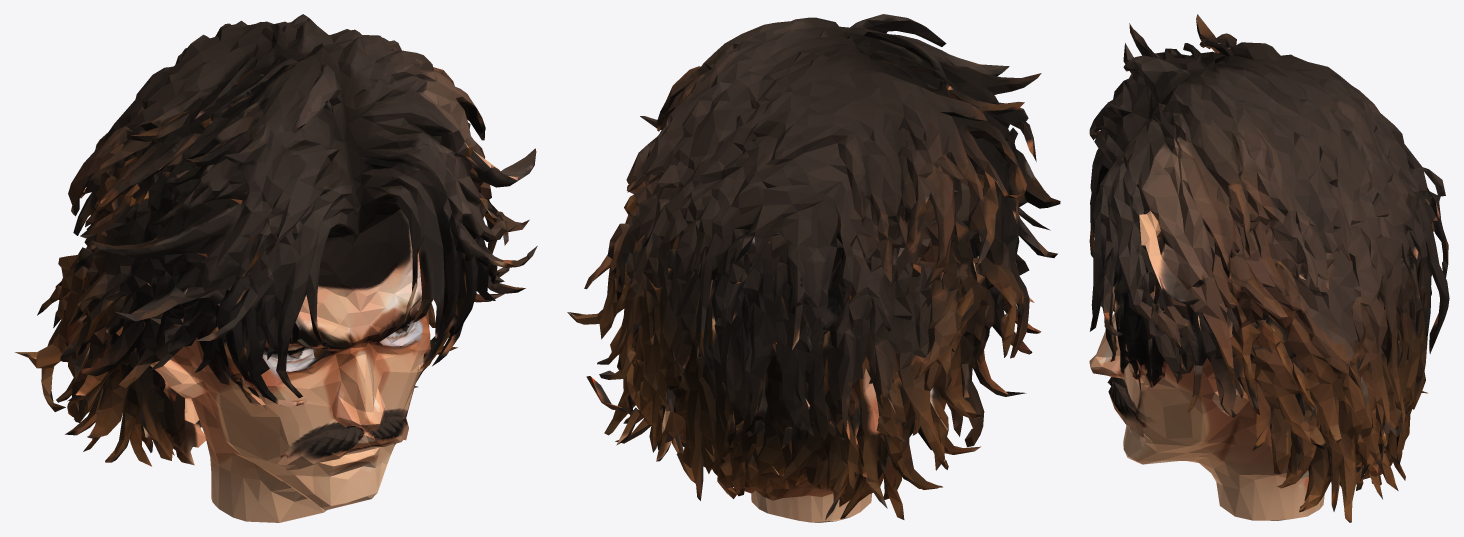
Rendered from side_tabezu_repaired_atlas.glb.
The picture shows the model from 3 angles, left to right: view 1: azimuth 30°, elevation 25°; view 2: azimuth 150°, elevation 25°; view 3: azimuth 270°, elevation 25°; orthographic projection. The views are drawn at different scales.
Visible parts, largest first — view 1: temp_mesh.ply; view 2: temp_mesh.ply; view 3: temp_mesh.ply.
Part boxes in pixels (box(x1,y1,x2,y2)): temp_mesh.ply: box(14, 14, 537, 522); temp_mesh.ply: box(567, 14, 1060, 522); temp_mesh.ply: box(1089, 14, 1449, 522).
Size of the model in its own units: 1.96 by 1.97 by 1.47.
1 material, 1 textured.
